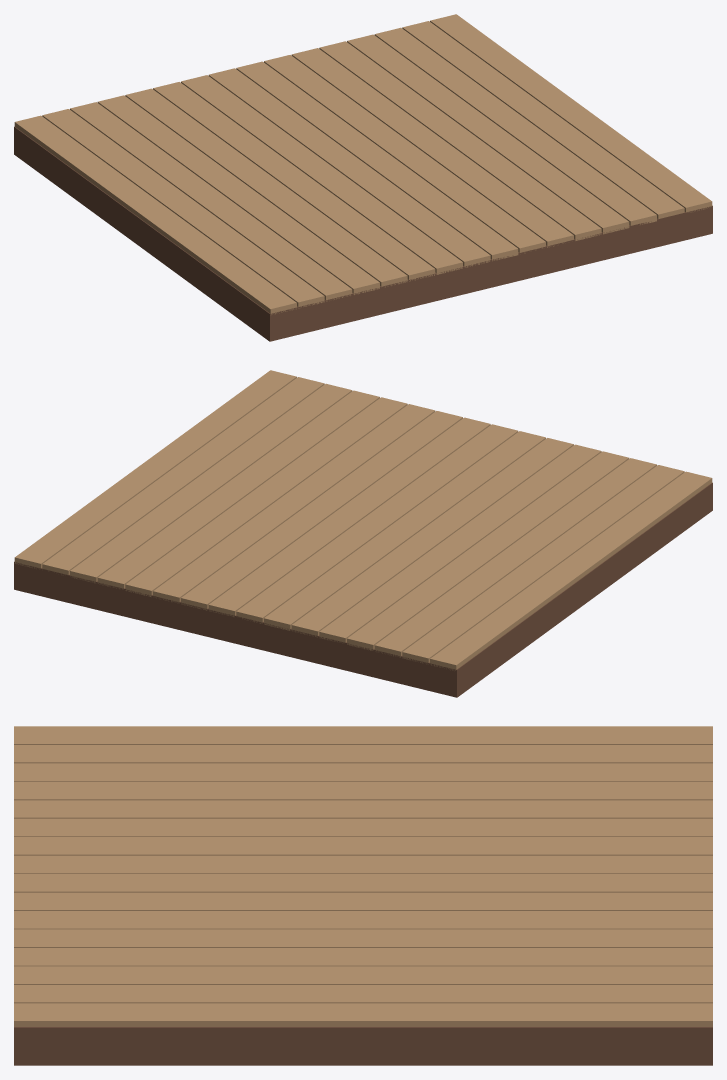
Rendered from tavern_floor_oak.glb.
The picture shows the model from 3 angles, top to bottom: view 1: azimuth 30°, elevation 25°; view 2: azimuth 150°, elevation 25°; view 3: azimuth 270°, elevation 25°; orthographic projection. The views are drawn at different scales.
Parts seen in each view (by area): view 1: tavern_floor_oak_Mesh; view 2: tavern_floor_oak_Mesh; view 3: tavern_floor_oak_Mesh.
Boxes of the visible parts, x1,y1,x2,y2 form: tavern_floor_oak_Mesh: (14,14,712,341); tavern_floor_oak_Mesh: (14,370,712,697); tavern_floor_oak_Mesh: (14,726,712,1065).
Bounding box in the file's own units: 4 × 0.2795 × 4.
